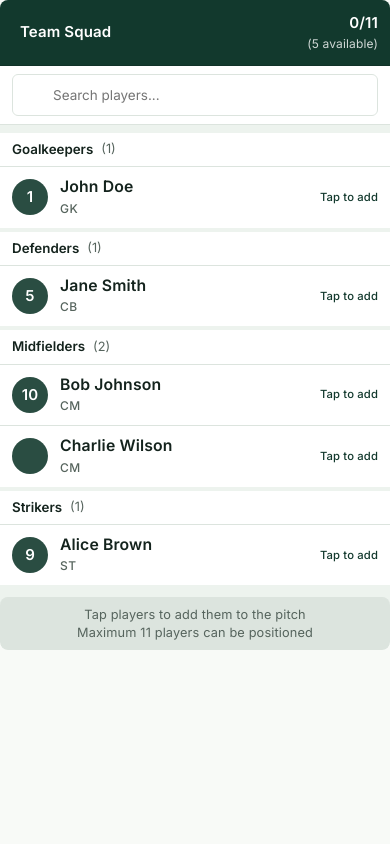
Test: PlayerSelectionPanel › Group Expansion › expands and collapses category groups
The image size is (390, 844).
Expected: the text "John Doe" is shown, [60,177,133,196]
Click to collapse Goalkeepers group
Click the button "Goalkeepers (1)" at (53, 149), box [0,133,389,167]
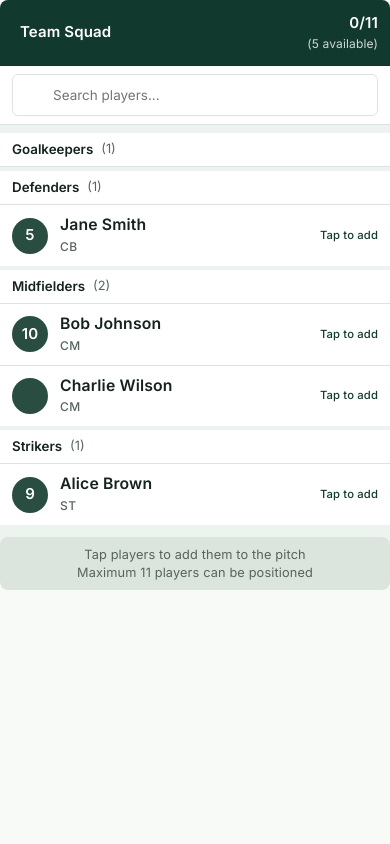
Expected: the text "John Doe" is gone
Click to expand again
Click the button "Goalkeepers (1)" at (53, 149), box [0,133,389,167]
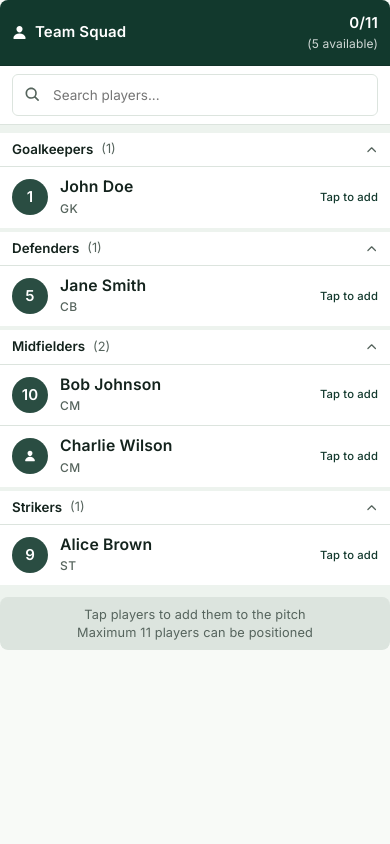
Expected: the text "John Doe" is shown, [60,177,133,196]
